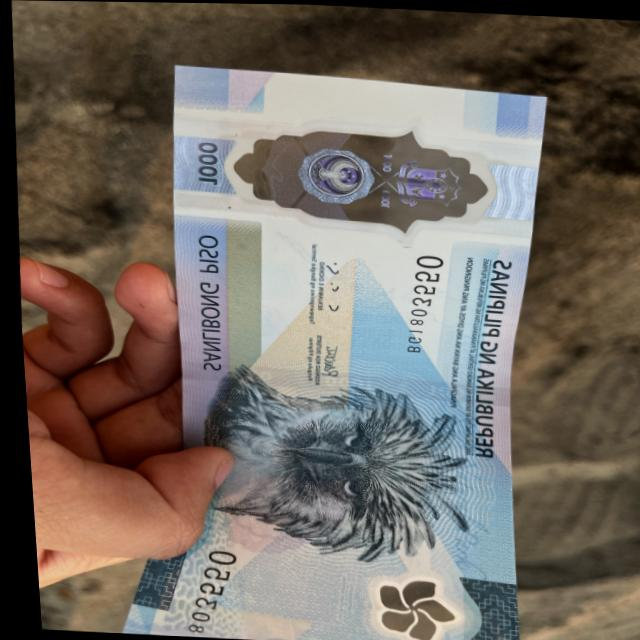clear_window: (153, 104, 532, 253)
eagle: (170, 367, 475, 580)
sampaguita: (347, 570, 475, 640)
